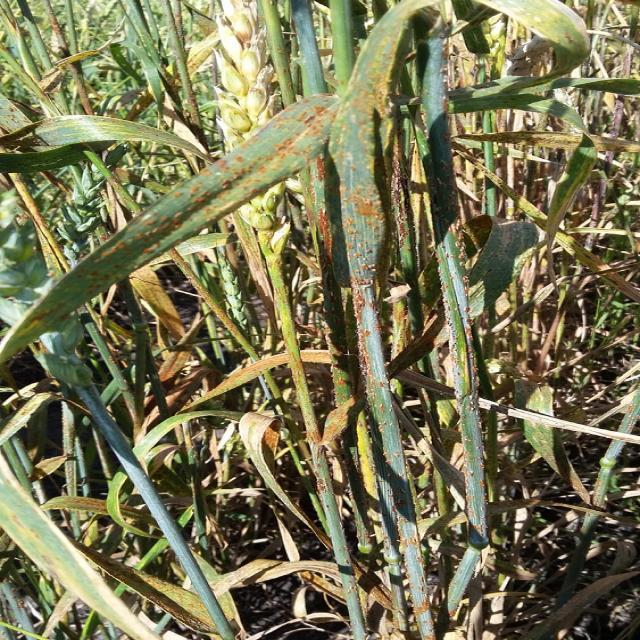wheat-stemrust: (0, 1, 428, 609), (272, 262, 351, 577), (439, 235, 490, 551)
